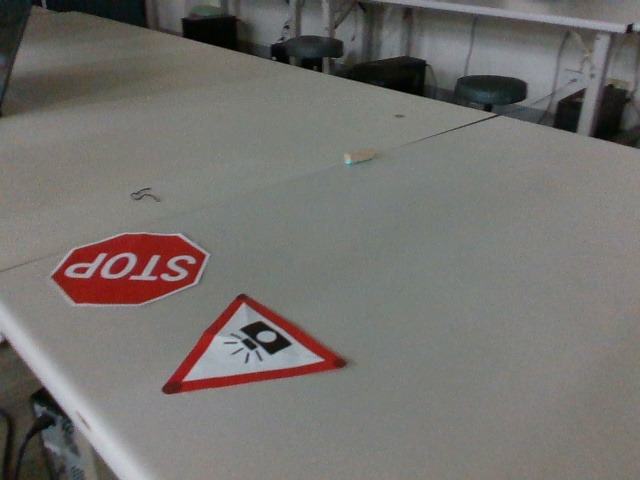camera: (160, 289, 347, 406)
stop: (52, 229, 211, 312)
